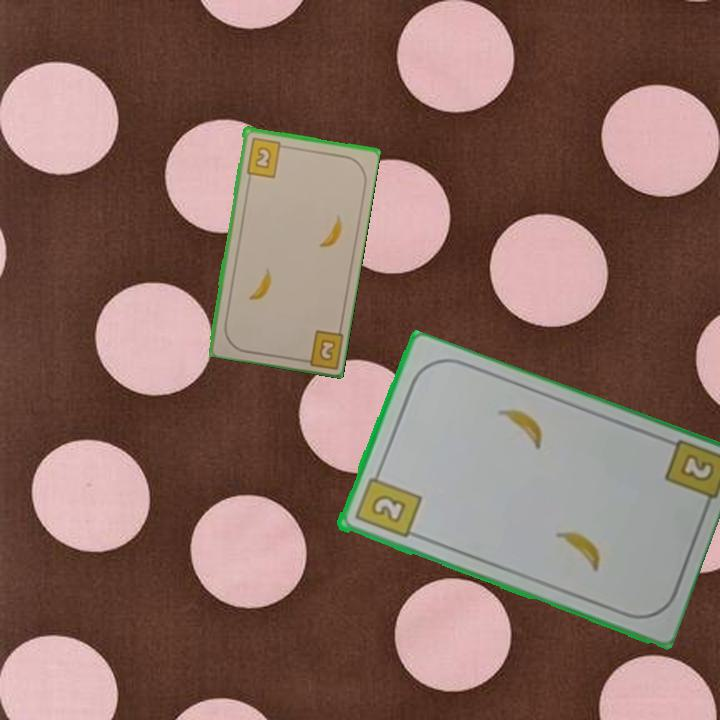2b: (351, 466, 423, 541), (295, 326, 345, 370), (242, 134, 289, 180), (676, 450, 717, 485)
